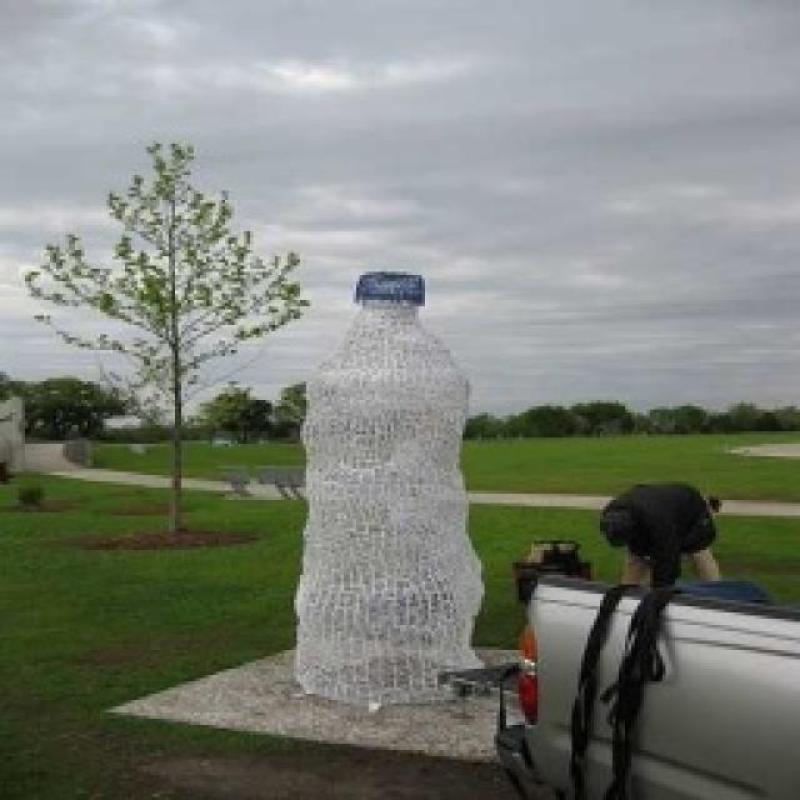botella: (292, 270, 496, 711)
